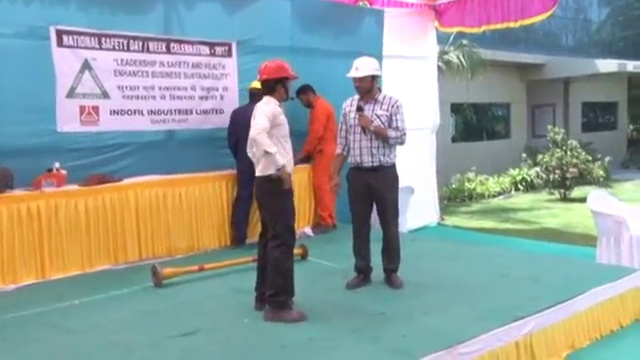helmet: (342, 53, 384, 78), (258, 59, 300, 82), (247, 78, 264, 92)
helmet_off: (295, 82, 319, 109)
helmet_on: (341, 54, 386, 103), (257, 59, 300, 106), (245, 75, 266, 107)
person: (330, 54, 408, 289), (245, 58, 310, 325), (294, 80, 340, 237), (226, 79, 264, 248)
